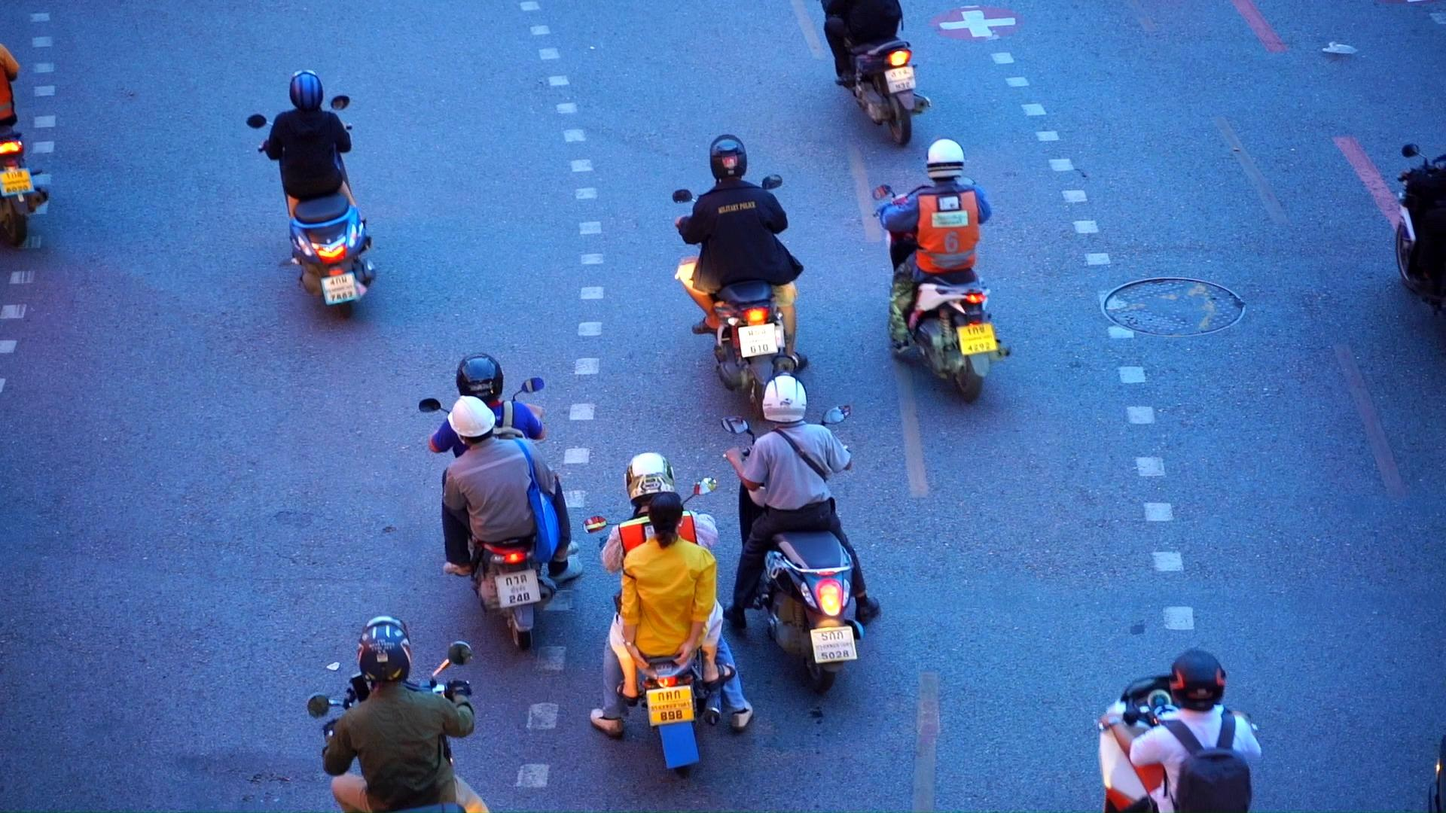driver: (583, 452, 753, 779), (720, 370, 881, 693), (420, 352, 583, 652), (673, 134, 809, 422), (871, 138, 1012, 402), (307, 615, 490, 813), (246, 69, 377, 319), (1097, 648, 1262, 813), (820, 0, 931, 146), (0, 43, 48, 248)
helmet: (357, 613, 413, 690), (1169, 648, 1227, 709), (624, 452, 676, 508), (447, 395, 496, 447), (762, 371, 808, 424), (457, 352, 503, 404), (710, 134, 747, 186), (926, 138, 965, 183), (289, 69, 324, 112)
no-helmet: (648, 492, 683, 550)
